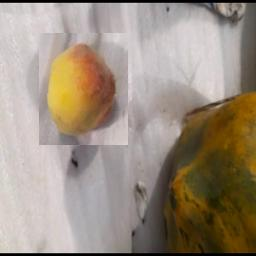Peach Semifresh: (39, 33, 128, 145)
